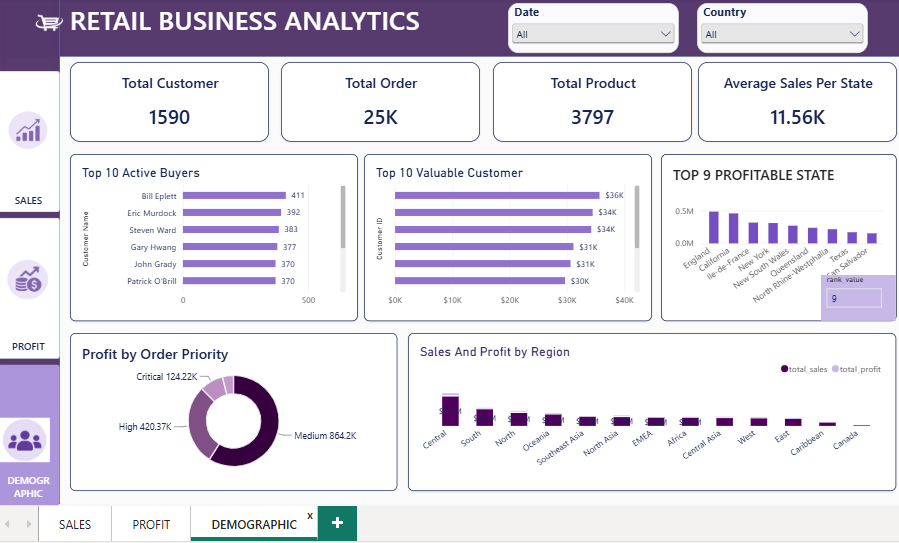

What the dashboard file says about the page in this screenshot:
{"tool":"powerbi","page":{"name":"DEMOGRAPHIC","canvas":[1280,720],"ordinal":2},"visuals":[{"type":"pageNavigator","box":[0,103.5,89.3,616.5],"z":0},{"type":"slicer","fields":{"Values":["date_table.Date"]},"box":[724.3,7.1,242.4,70.9],"z":1000},{"type":"slicer","fields":{"Values":["location_table.Country"]},"box":[992.1,7.1,242.4,70.9],"z":2000},{"type":"card","title":"Total Customer","fields":{"Values":["calculated_table.total_customer"]},"box":[103.5,90.7,282,113.4],"z":3000},{"type":"card","title":"Average Sales Per State","fields":{"Values":["calculated_table.avg_sales_per_state"]},"box":[992.9,90.7,282,113.4],"z":4000},{"type":"card","title":"Total Order","fields":{"Values":["calculated_table.total_order"]},"box":[402,90.7,282,113.4],"z":5000},{"type":"card","title":"Total Product","fields":{"Values":["calculated_table.total_products"]},"box":[702.7,90.7,282,113.4],"z":6000},{"type":"clusteredBarChart","title":"Top 10 Active Buyers","fields":{"Category":["customer_table.Customer Name"],"Y":["calculated_table.total_qty"]},"box":[102.8,220.6,408,237.3],"z":7000},{"type":"clusteredBarChart","title":"Top 10 Valuable Customer","fields":{"Category":["sales_table.Customer ID"],"Y":["calculated_table.total_sales"]},"box":[519.9,220.6,408,237.3],"z":8000},{"type":"donutChart","title":"Profit by Order Priority","fields":{"Category":["sales_table.Order Priority"],"Y":["calculated_table.total_profit"]},"box":[103.7,475.1,463.7,224.3],"z":9000},{"type":"columnChart","title":"Sales And Profit by Region","fields":{"Category":["location_table.Region"],"Y":["calculated_table.total_sales","calculated_table.total_profit"]},"box":[581.8,474.5,692.1,223.7],"z":10000},{"type":"image","box":[0,0,150.5,74],"z":11000},{"type":"textbox","box":[102.8,6,565.2,57.4],"z":12000},{"type":"image","box":[8.3,90.8,70.8,194.2],"z":13000},{"type":"image","box":[8.3,301.7,70.8,194.2],"z":14000},{"type":"image","box":[0,532.5,75,187.5],"z":15000},{"type":"columnChart","fields":{"Category":["location_table.State"],"Y":["calculated_table.sales_rank"]},"box":[941.1,221.1,334.5,236.7],"z":16000},{"type":"slicer","title":"Top Rank","fields":{"Values":["rank_value.rank_value"]},"box":[1167.9,392.6,106.3,65.2],"z":16001}]}

Visuals, with their boxes on the page's 1280x720 design canvas (x1, y1, x2, y2). These are canvas units, not pixel positions in the 899x543 screenshot, which may show the page scaled, cropped or inside an application window:
pageNavigator: (0,104,89,720)
slicer - date_table.Date: (724,7,967,78)
slicer - location_table.Country: (992,7,1234,78)
"Total Customer" card: (104,91,386,204)
"Average Sales Per State" card: (993,91,1275,204)
"Total Order" card: (402,91,684,204)
"Total Product" card: (703,91,985,204)
"Top 10 Active Buyers" clusteredBarChart: (103,221,511,458)
"Top 10 Valuable Customer" clusteredBarChart: (520,221,928,458)
"Profit by Order Priority" donutChart: (104,475,567,699)
"Sales And Profit by Region" columnChart: (582,474,1274,698)
image: (0,0,150,74)
textbox: (103,6,668,63)
image: (8,91,79,285)
image: (8,302,79,496)
image: (0,532,75,720)
columnChart - location_table.State x calculated_table.sales_rank: (941,221,1276,458)
"Top Rank" slicer: (1168,393,1274,458)
